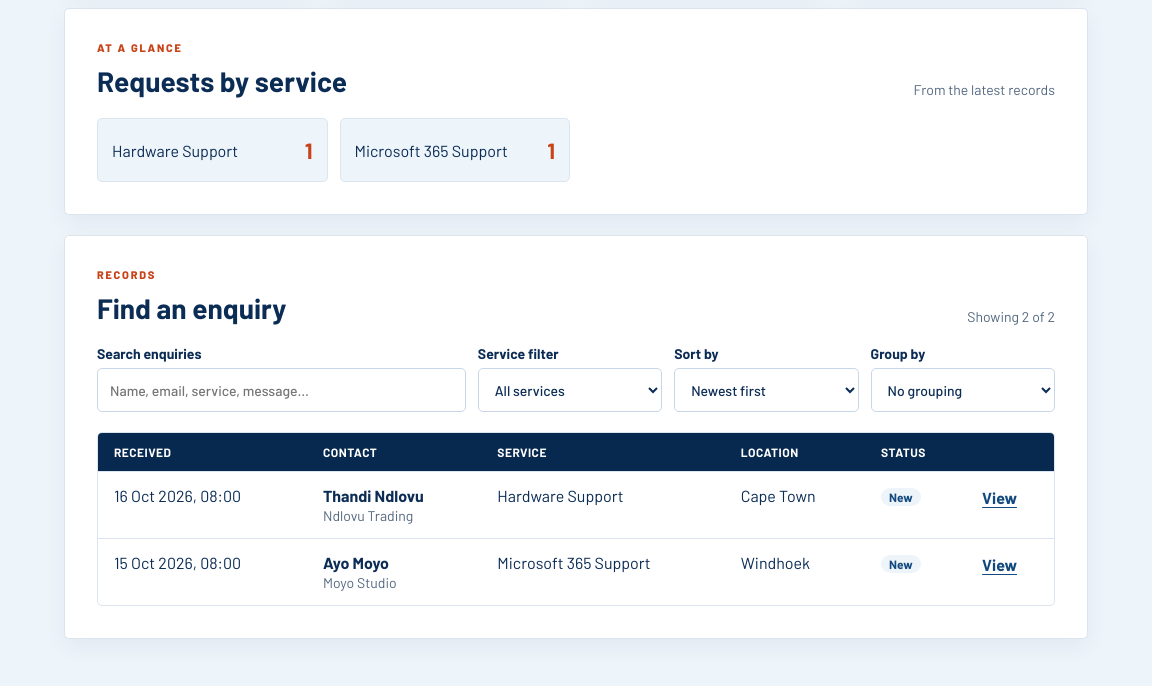
it: admin dashboard › filters by service, sorts by name, and groups into labelled tables
(page scrolled)
expect the table named "enquiries" is shown: met, box [98,433,1054,605]
Select "Name A–Z" in the dropdown labelled "Sort by" at (766, 390), box [674,368,859,412]
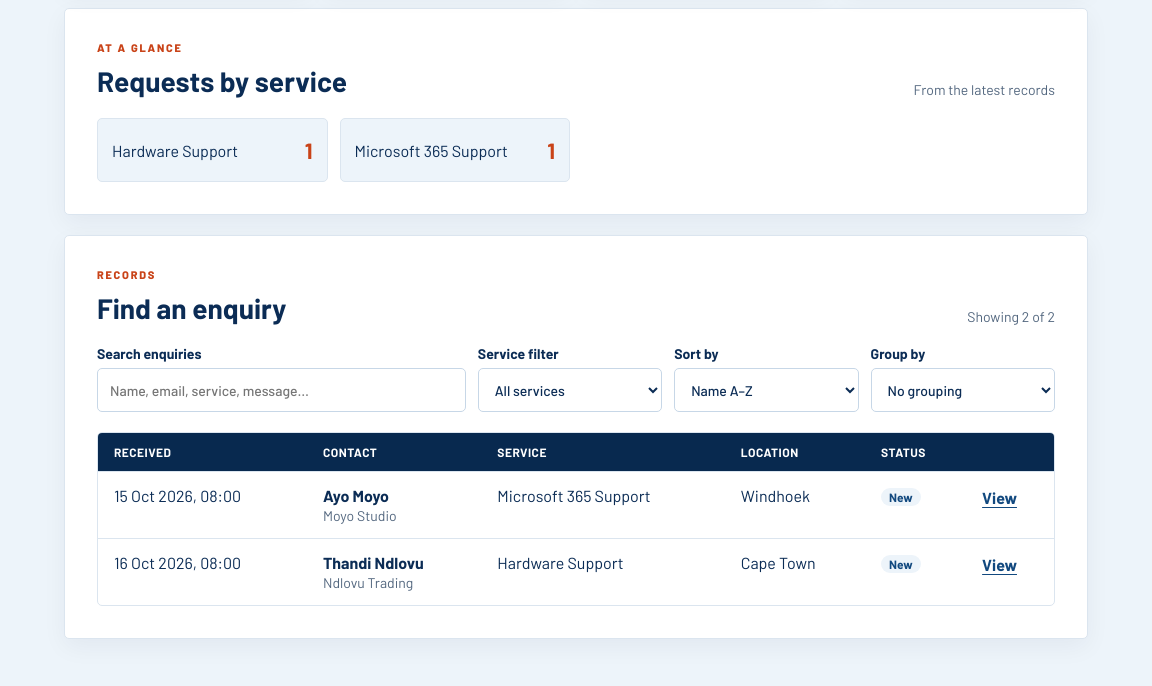
expect the row that starts with "15 Oct 2026, 08:00" shows "Ayo Moyo": met, box [323,486,389,505]
Select "Service" in the dropdown labelled "Group by" at (963, 390), box [871,368,1055,412]
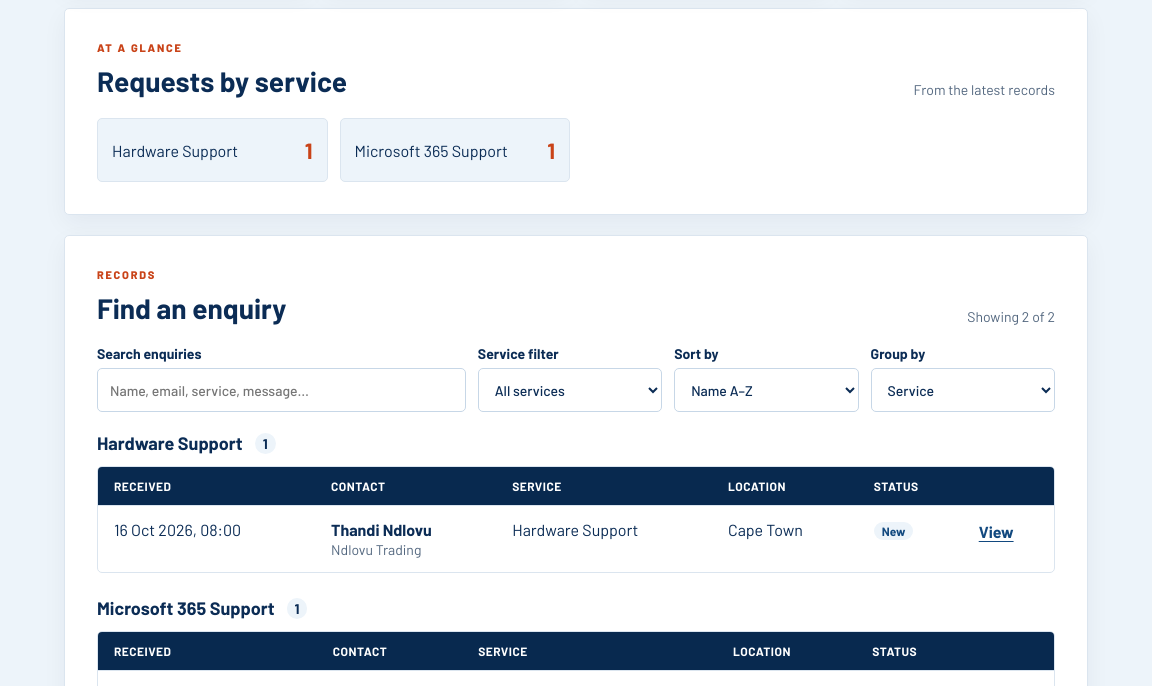
expect the table named "Hardware Support enquiries" is shown: met, box [98,467,1054,572]
Select "Hardware Support" in the dropdown labelled "Service filter" at (570, 390), box [478,368,662,412]
(page scrolled)
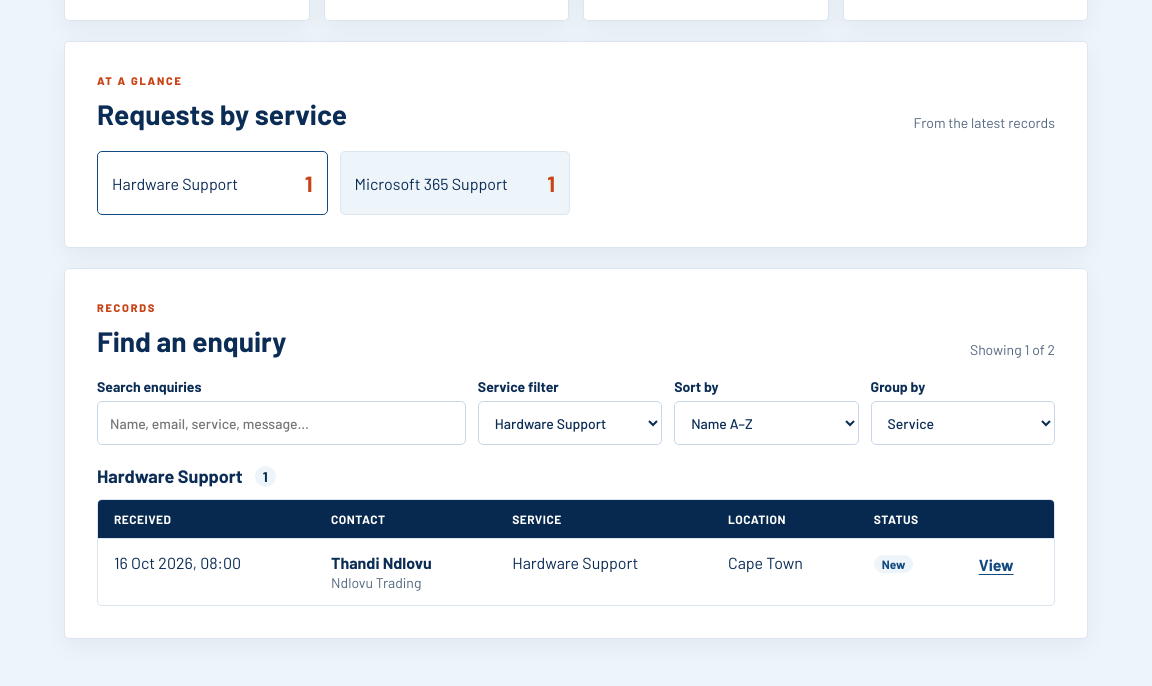
expect the text "Showing 1 of 2" is shown: met, box [970,341,1055,358]
